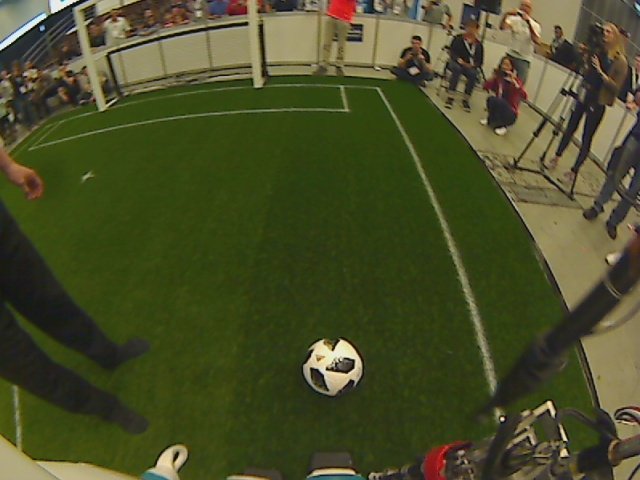ball: (301, 335, 365, 398)
